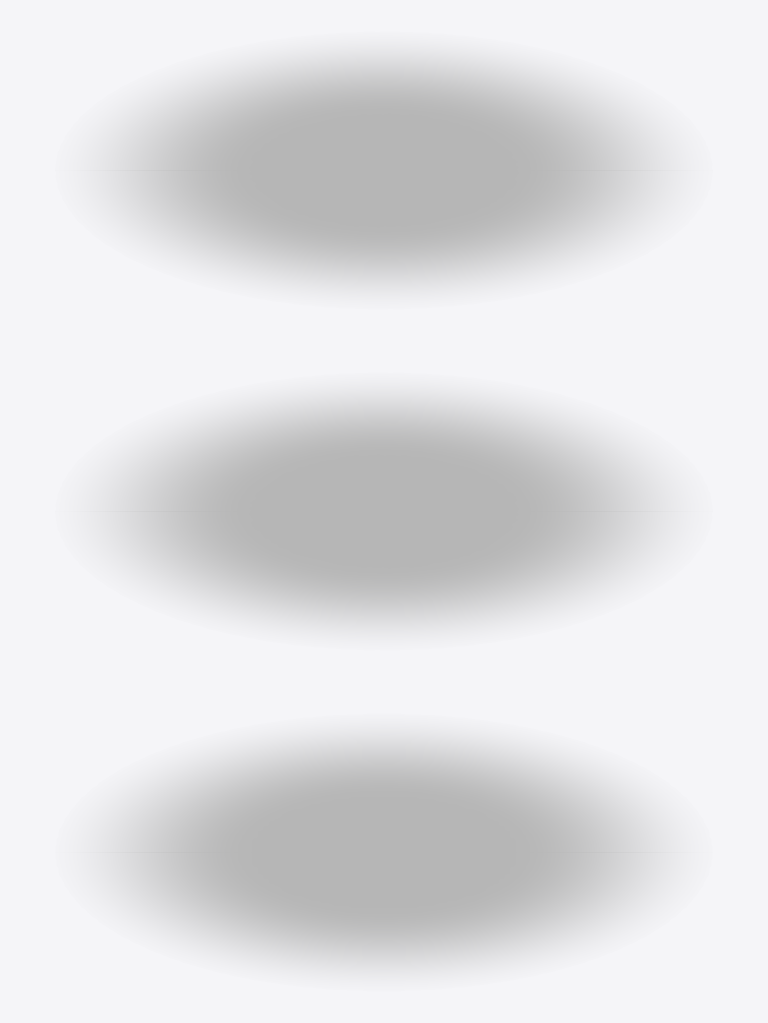
The model's file is floor.glb.
3 views of the same model, one above another, from view 1: azimuth 30°, elevation 25°; view 2: azimuth 150°, elevation 25°; view 3: azimuth 270°, elevation 25° (orthographic).
Parts seen in each view (by area): view 1: Floor; view 2: Floor; view 3: Floor.
Boxes of the visible parts, <box> form: Floor: <box>79,45,688,295</box>; Floor: <box>79,386,688,636</box>; Floor: <box>79,727,688,977</box>.
Size of the model in its own units: 2 by 0 by 2.
2 materials, 1 textured.
